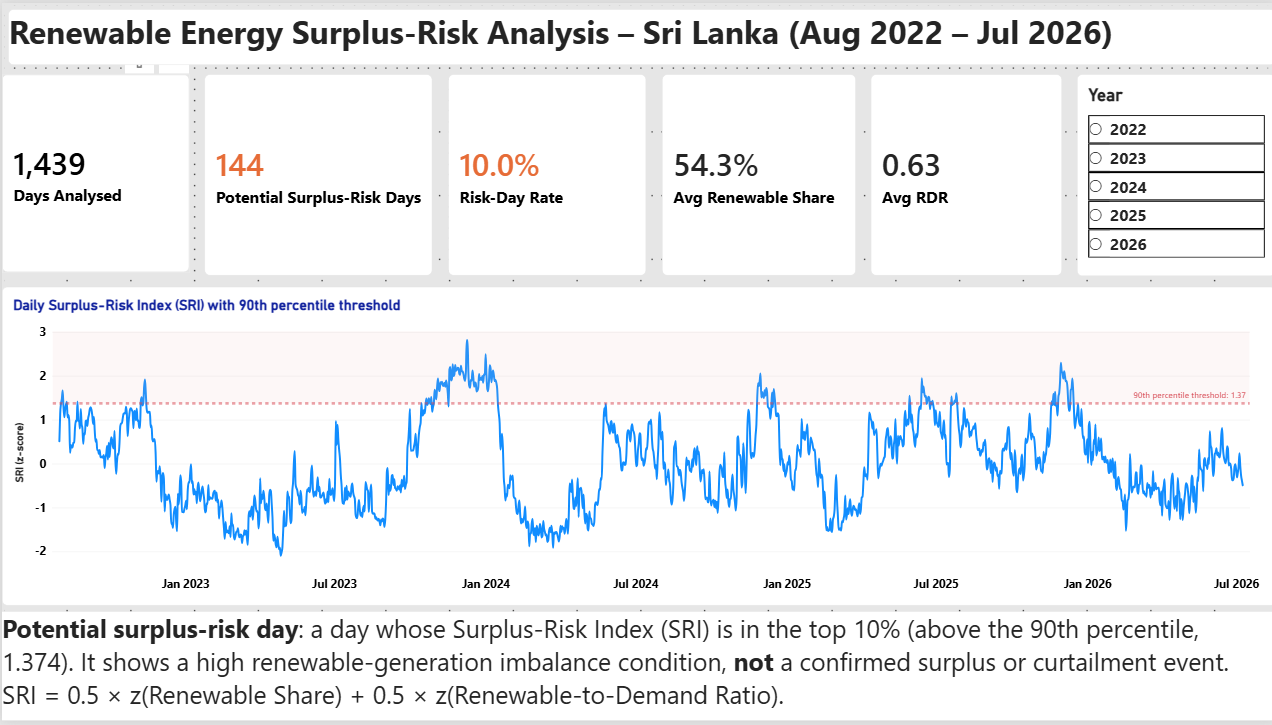

This screenshot's page, from the dashboard's own definition file:
{"tool":"powerbi","page":{"name":"Overview","canvas":[1920,1080],"ordinal":0},"visuals":[{"type":"listSlicer","fields":{"Values":["DateTable.Year"]},"box":[1619.6,107.8,300,303.9],"z":0},{"type":"cardVisual","fields":{"Data":["surplus_risk_daily.Avg RDR"]},"box":[1308.2,107.8,288.2,303.9],"z":1000},{"type":"cardVisual","fields":{"Data":["surplus_risk_daily.Avg Renewable Share"]},"box":[992.9,107.8,292.2,303.9],"z":2000},{"type":"cardVisual","fields":{"Data":["surplus_risk_daily.Risk Day %"]},"box":[671.8,107.8,298,303.9],"z":3000},{"type":"cardVisual","fields":{"Data":["surplus_risk_daily.Risk Days"]},"box":[305.5,107.8,343.1,303.9],"z":4000},{"type":"cardVisual","fields":{"Data":["surplus_risk_daily.Total Days"]},"box":[0,107.8,282.4,298],"z":5000},{"type":"textbox","box":[9.8,9.8,1909.8,84.3],"z":6000},{"type":"lineChart","title":"Daily Surplus-Risk Index (SRI) with 90th percentile threshold","fields":{"Category":["DateTable.Date"],"Y":["surplus_risk_daily.Avg SRI"]},"box":[0,427.5,1919.6,480.4],"z":7000},{"type":"textbox","box":[0,917,1920,163],"z":8000}]}

Visuals, with their boxes in screenshot pixels (x1, y1, x2, y2), scaled from the page's 1920x1080 canvas onto the 1272x725 screenshot:
listSlicer - DateTable.Year: detection(1073, 72, 1271, 276)
cardVisual - surplus_risk_daily.Avg RDR: detection(867, 72, 1058, 276)
cardVisual - surplus_risk_daily.Avg Renewable Share: detection(658, 72, 851, 276)
cardVisual - surplus_risk_daily.Risk Day %: detection(445, 72, 642, 276)
cardVisual - surplus_risk_daily.Risk Days: detection(202, 72, 430, 276)
cardVisual - surplus_risk_daily.Total Days: detection(0, 72, 187, 272)
textbox: detection(6, 7, 1271, 63)
"Daily Surplus-Risk Index (SRI) with 90th percentile threshold" lineChart: detection(0, 287, 1271, 609)
textbox: detection(0, 616, 1271, 724)
